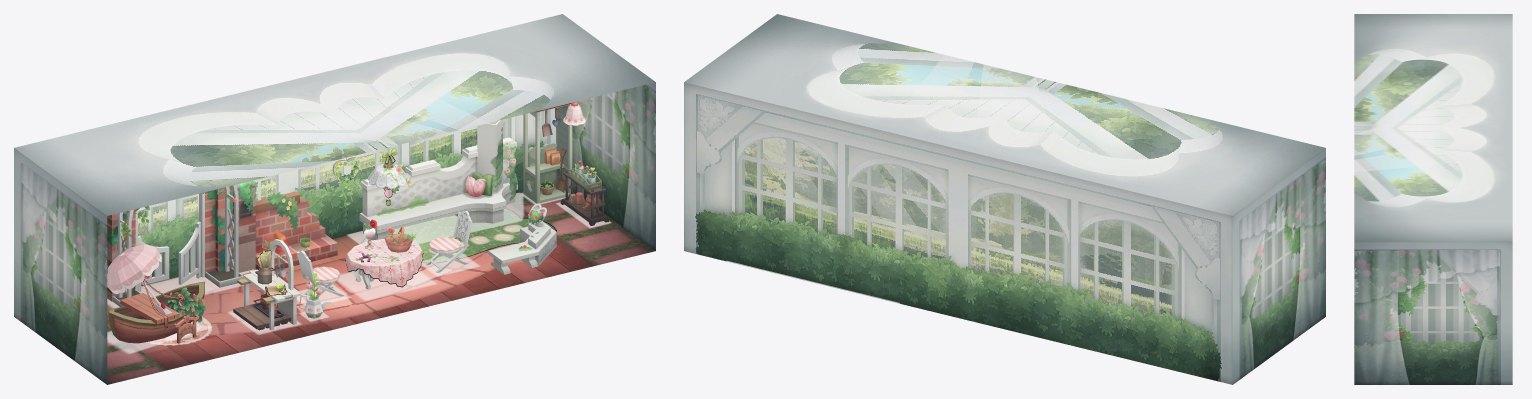
The model's file is villagemanor.glb.
3 renders of one model, left to right at view 1: azimuth 30°, elevation 25°; view 2: azimuth 150°, elevation 25°; view 3: azimuth 270°, elevation 25°, orthographic. The views are drawn at different scales.
Parts seen in each view (by area): view 1: ROOM_room, ROOM_floor, furni_villagemanor_bench_01, furni_villagemanor_arch_01, furni_villagemanor_boat_01, furni_villagemanor_brickwall_01, furni_villagemanor_shelf_01, furni_villagemanor_worktable_01, furni_villagemanor_carpet_01, furni_villagemanor_teatable_02, furni_villagemanor_plantbench_01, shadow_01.008 (+16 smaller); view 2: ROOM_room, ROOM_LDoor; view 3: ROOM_room, ROOM_RDoor, shadow_01.008.
Part boxes in pixels (left/top/right/bottom): ROOM_room: left=14, top=14, right=655, bottom=384; ROOM_floor: left=107, top=191, right=655, bottom=384; furni_villagemanor_bench_01: left=359, top=119, right=517, bottom=240; furni_villagemanor_arch_01: left=107, top=184, right=244, bottom=306; furni_villagemanor_boat_01: left=107, top=244, right=204, bottom=343; furni_villagemanor_brickwall_01: left=233, top=181, right=337, bottom=272; furni_villagemanor_shelf_01: left=523, top=103, right=572, bottom=203; furni_villagemanor_worktable_01: left=233, top=239, right=301, bottom=330; furni_villagemanor_carpet_01: left=361, top=209, right=556, bottom=262; furni_villagemanor_teatable_02: left=345, top=219, right=423, bottom=287; furni_villagemanor_plantbench_01: left=488, top=203, right=556, bottom=274; shadow_01.008: left=347, top=192, right=524, bottom=244; ROOM_room: left=684, top=14, right=1325, bottom=384; ROOM_LDoor: left=1293, top=250, right=1312, bottom=340; ROOM_room: left=1354, top=14, right=1512, bottom=384; ROOM_RDoor: left=1377, top=319, right=1409, bottom=384; shadow_01.008: left=1512, top=294, right=1515, bottom=366.
Bounding box in the file's own units: 7.48 × 2.2 × 2.27.
Materials: 6 (6 with a texture image).
